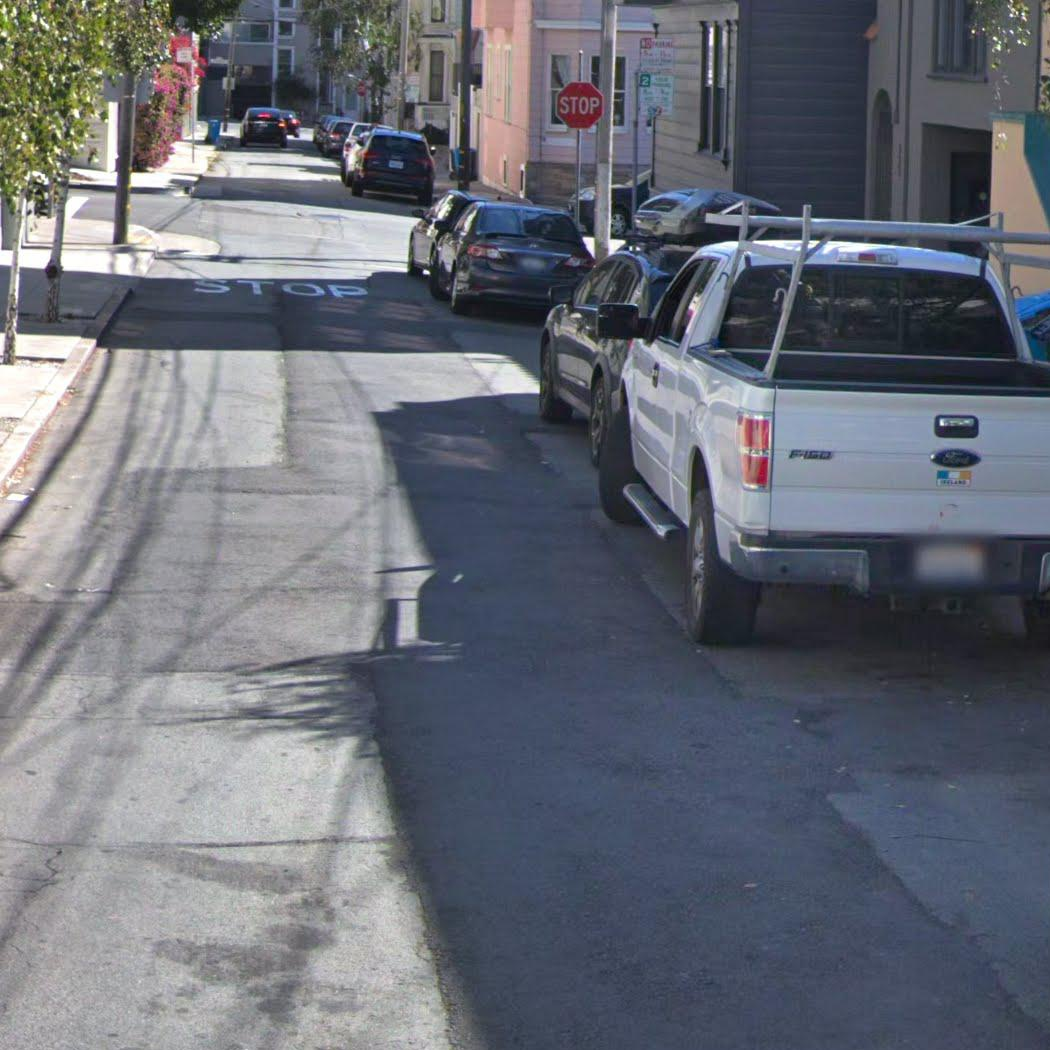2 Hour Parking: (635, 74, 676, 119)
No Parking: (637, 37, 677, 73)
